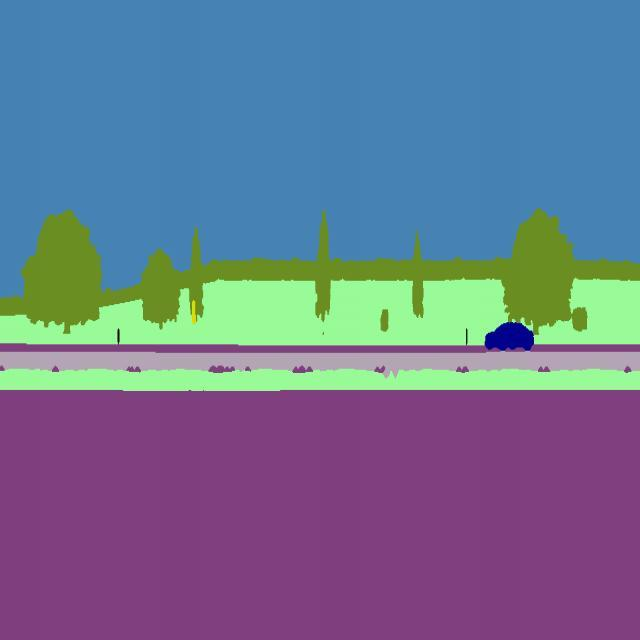safe: (478, 314, 542, 358)
